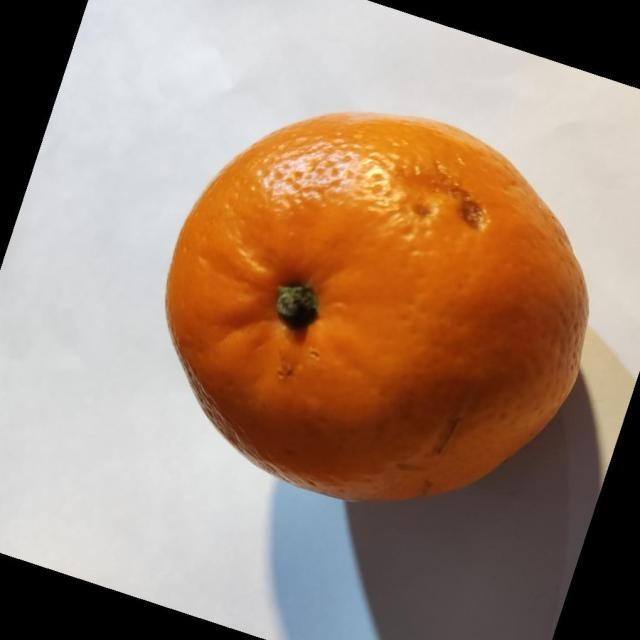agrume: (164, 110, 590, 503)
